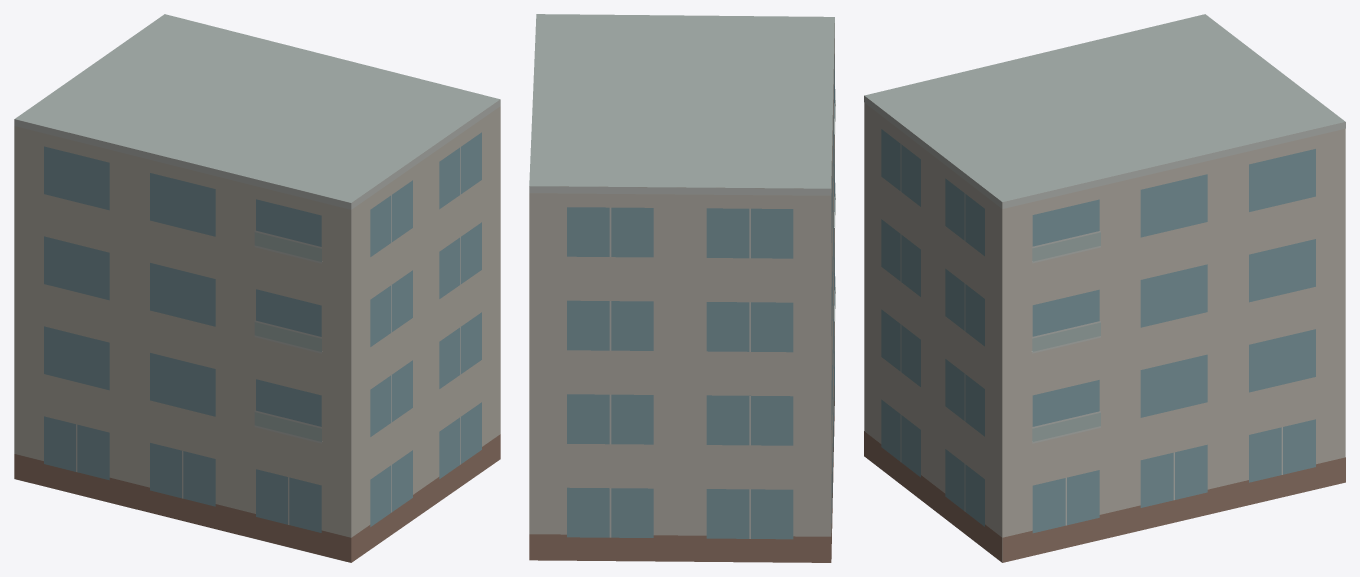
File: survey-upis-32701399.glb
3 renders of one model, left to right at view 1: azimuth 30°, elevation 25°; view 2: azimuth 150°, elevation 25°; view 3: azimuth 270°, elevation 25°, orthographic. The views are drawn at different scales.
Visible parts, largest first — view 1: survey-upis-32701399.tmp; view 2: survey-upis-32701399.tmp; view 3: survey-upis-32701399.tmp.
Boxes of the visible parts, x1=… form: survey-upis-32701399.tmp: x1=14, y1=14, x2=500, y2=562; survey-upis-32701399.tmp: x1=529, y1=14, x2=835, y2=562; survey-upis-32701399.tmp: x1=864, y1=14, x2=1345, y2=562.
Bounding box in the file's own units: 14.33 × 12.8 × 15.5.
